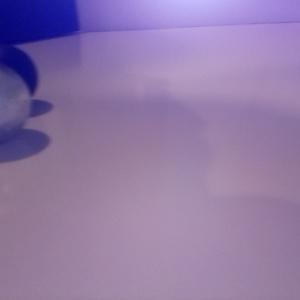alive_ball: (1, 66, 31, 140)
dead_ball: (1, 44, 38, 102)
